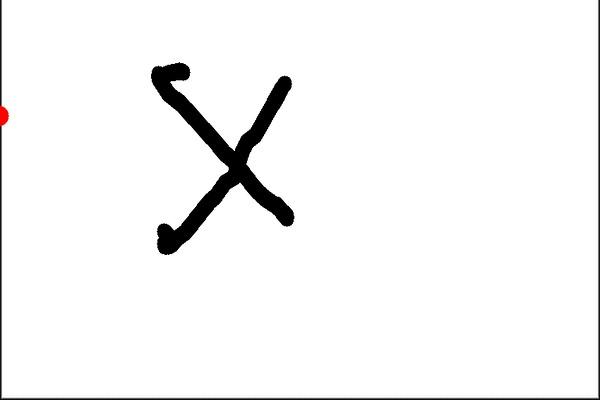Z: (122, 44, 314, 264)
